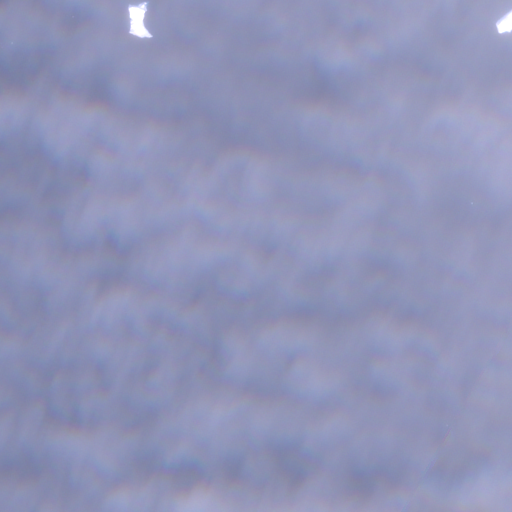Iceberg: (128, 1, 152, 38), (496, 10, 511, 33)
